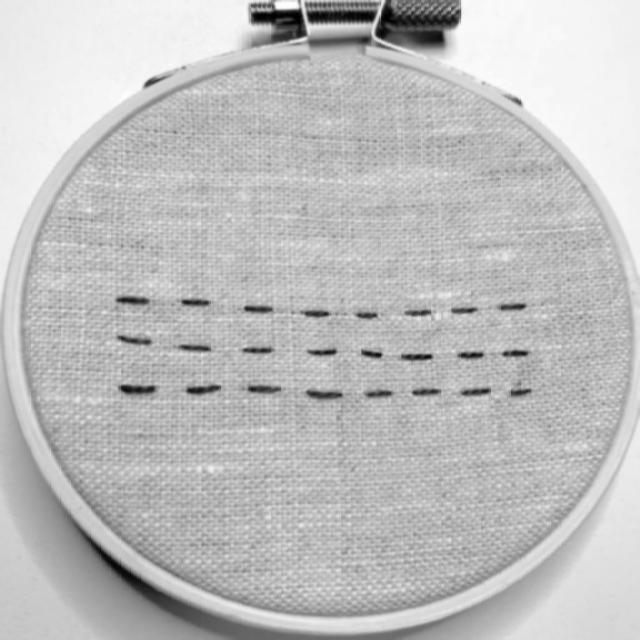stitch: (118, 384, 156, 394), (117, 334, 152, 344), (186, 384, 221, 394), (115, 295, 151, 304), (306, 390, 342, 399), (247, 384, 281, 393), (364, 389, 393, 399), (497, 301, 526, 311), (401, 352, 433, 361), (412, 386, 440, 396), (178, 344, 211, 352), (302, 309, 330, 318), (459, 388, 490, 396), (181, 298, 211, 306), (243, 304, 273, 312), (243, 346, 273, 354), (403, 308, 432, 316), (508, 388, 531, 398), (307, 349, 337, 356), (458, 351, 484, 359), (503, 349, 528, 357), (360, 350, 383, 358), (356, 311, 378, 319), (451, 308, 478, 314)
